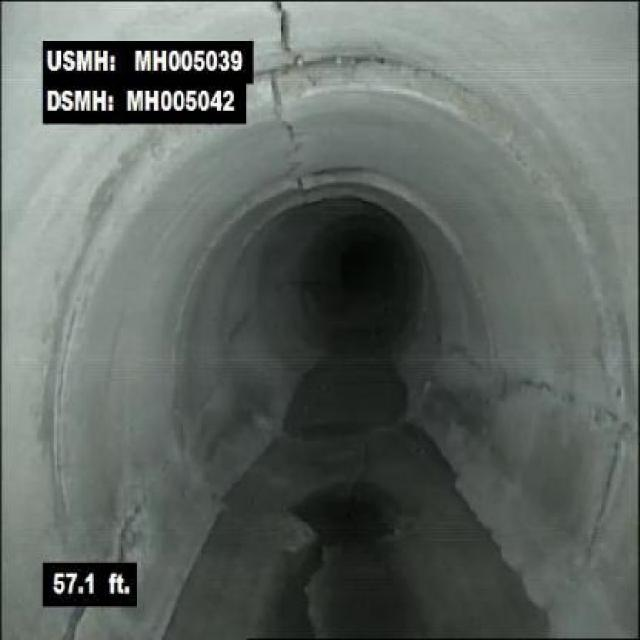Crack: (532, 377, 632, 431), (288, 544, 337, 638), (108, 494, 154, 561), (266, 3, 302, 62), (274, 111, 303, 158), (60, 610, 94, 638)
Joint offset: (310, 52, 476, 121)
